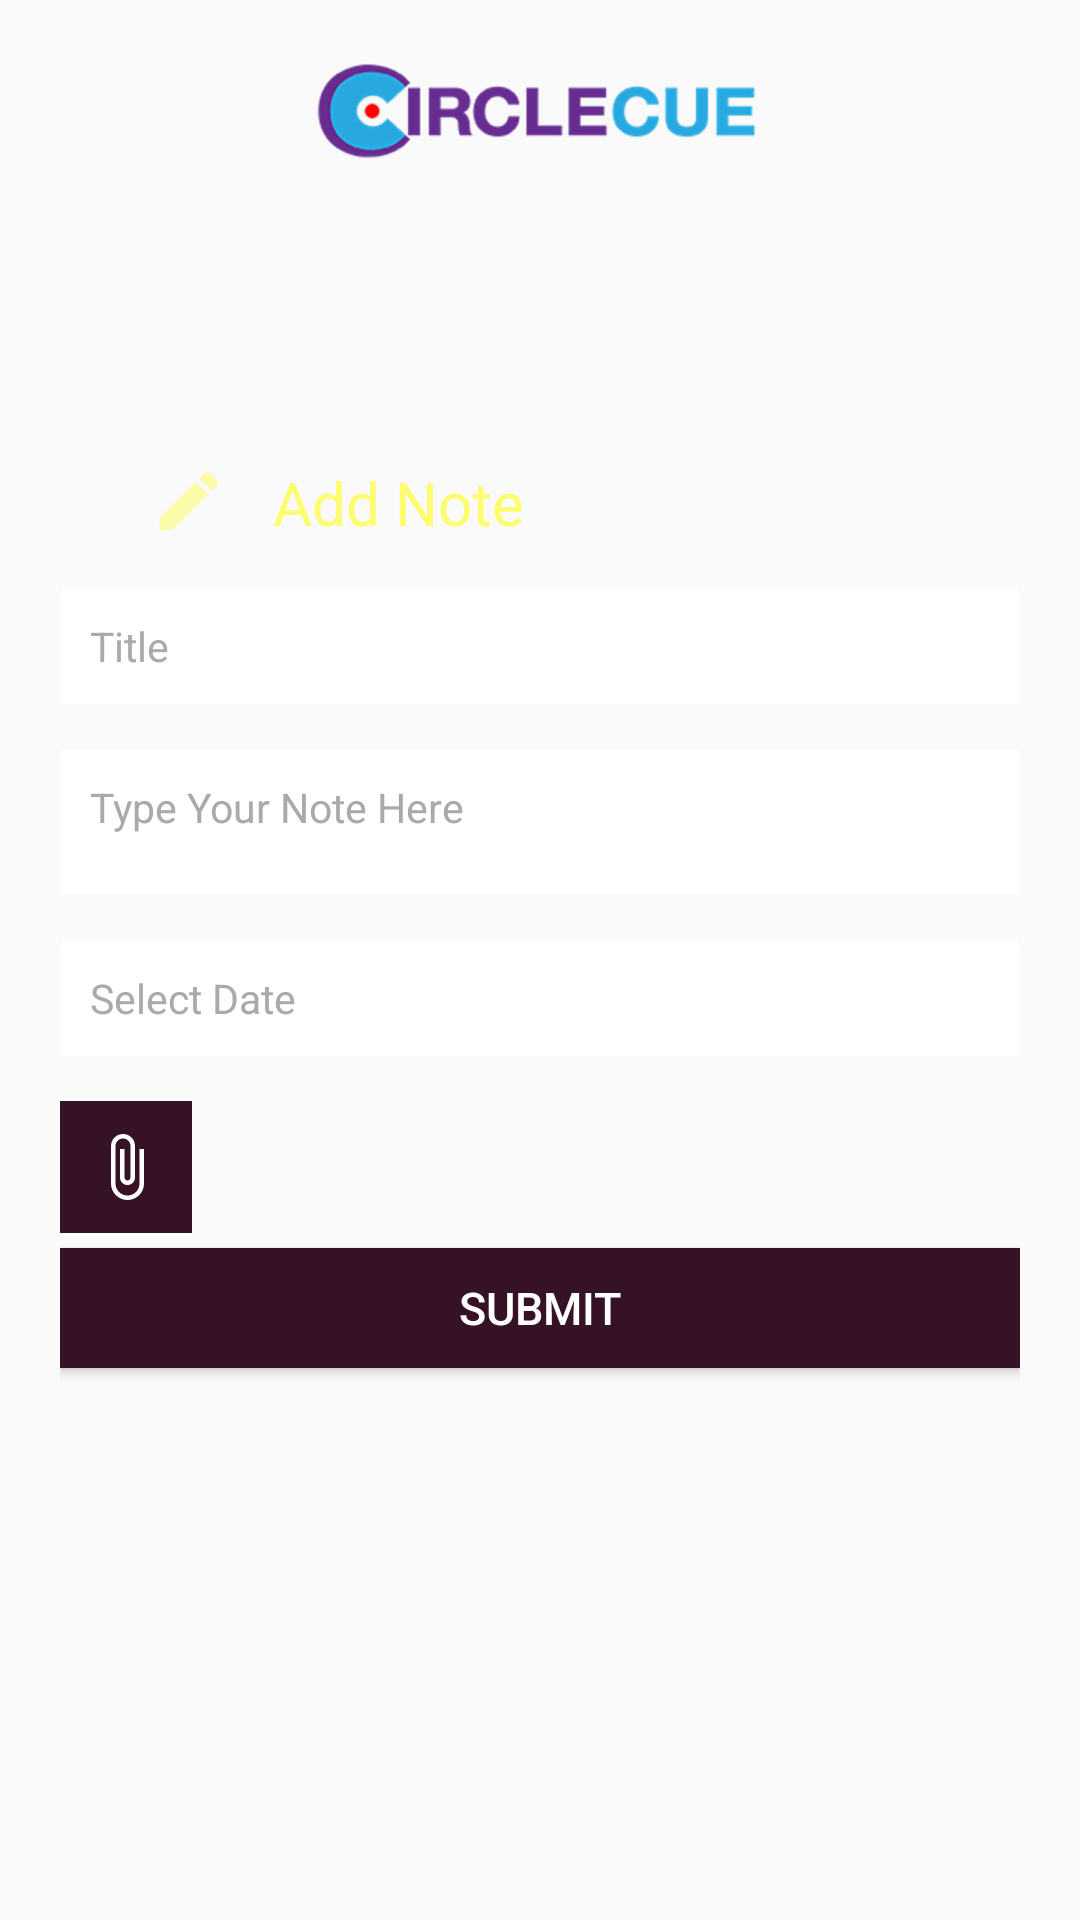

Where to tap for icons on this 1080 x 1920 app screen, as [x,y]:
attach: [126,1167]
edit: [189,501]
